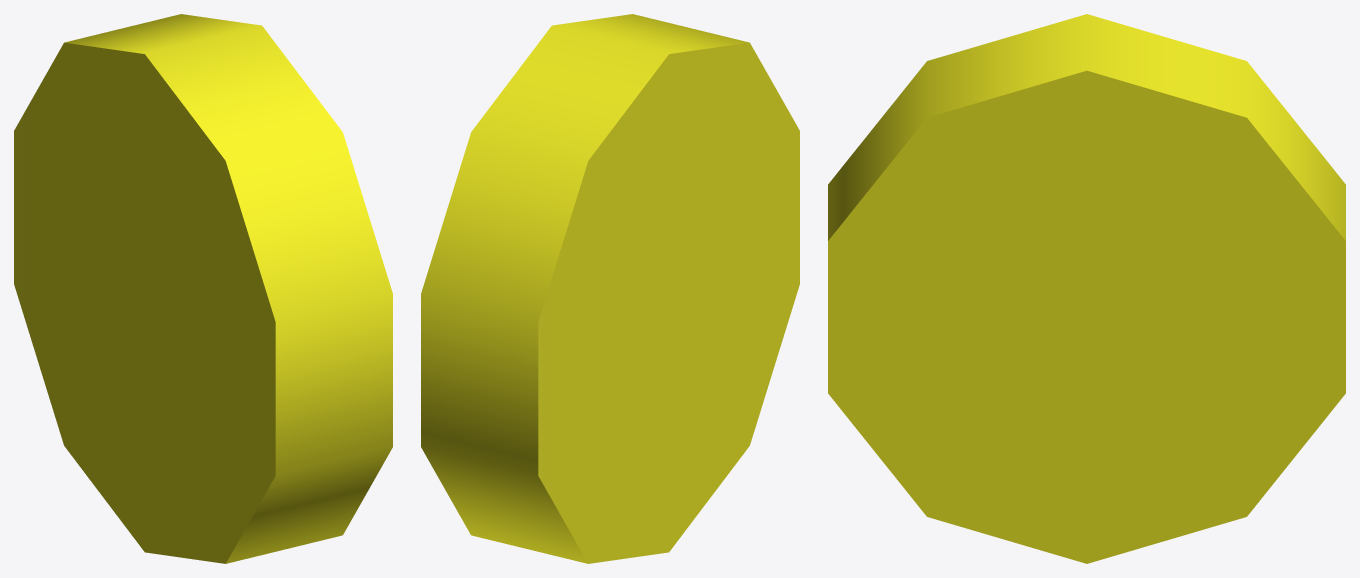
File: GoldCoin.fbx
3 renders of one model, left to right at view 1: azimuth 30°, elevation 25°; view 2: azimuth 150°, elevation 25°; view 3: azimuth 270°, elevation 25°, orthographic.
Visible parts, largest first — view 1: pCylinder1; view 2: pCylinder1; view 3: pCylinder1.
Part boxes in pixels (x1=…): pCylinder1: x1=14, y1=14, x2=392, y2=563; pCylinder1: x1=421, y1=14, x2=799, y2=563; pCylinder1: x1=828, y1=14, x2=1345, y2=563.
Bounding box in the file's own units: 26.81 × 109 × 104.
Materials: 1 (1 with a texture image).
